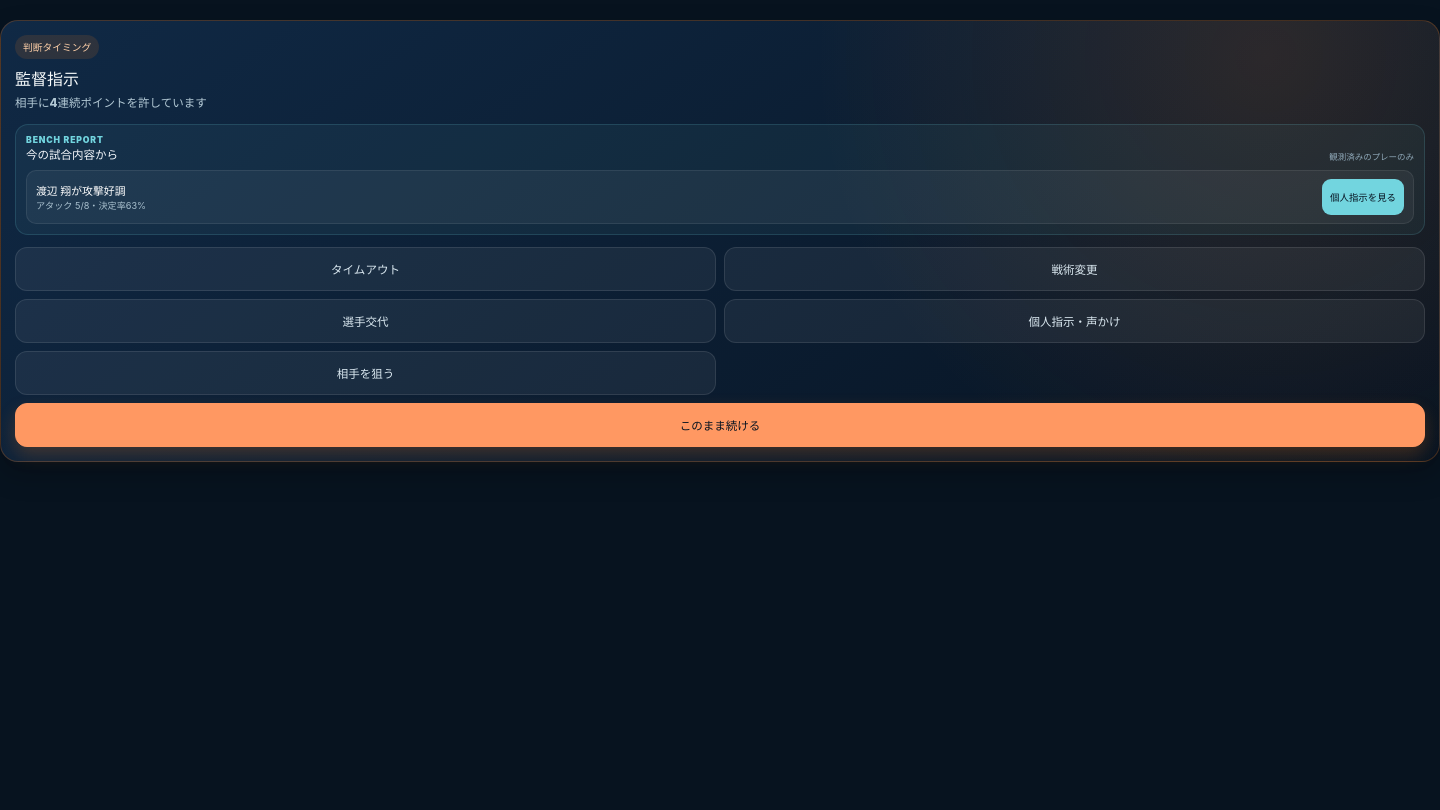
Test case: Phase53 bench report › shows observed-play advice and opens the matching player instruction
This screenshot has width=1440, height=810.
Check: the text "BENCH REPORT" is shown, box [26, 135, 104, 145]
Check: the text "アタック 5/8・決定率63%" is shown, box [36, 200, 146, 211]
Step 1. Click the button "個人指示を見る" → (1363, 197), box [1322, 179, 1404, 215]
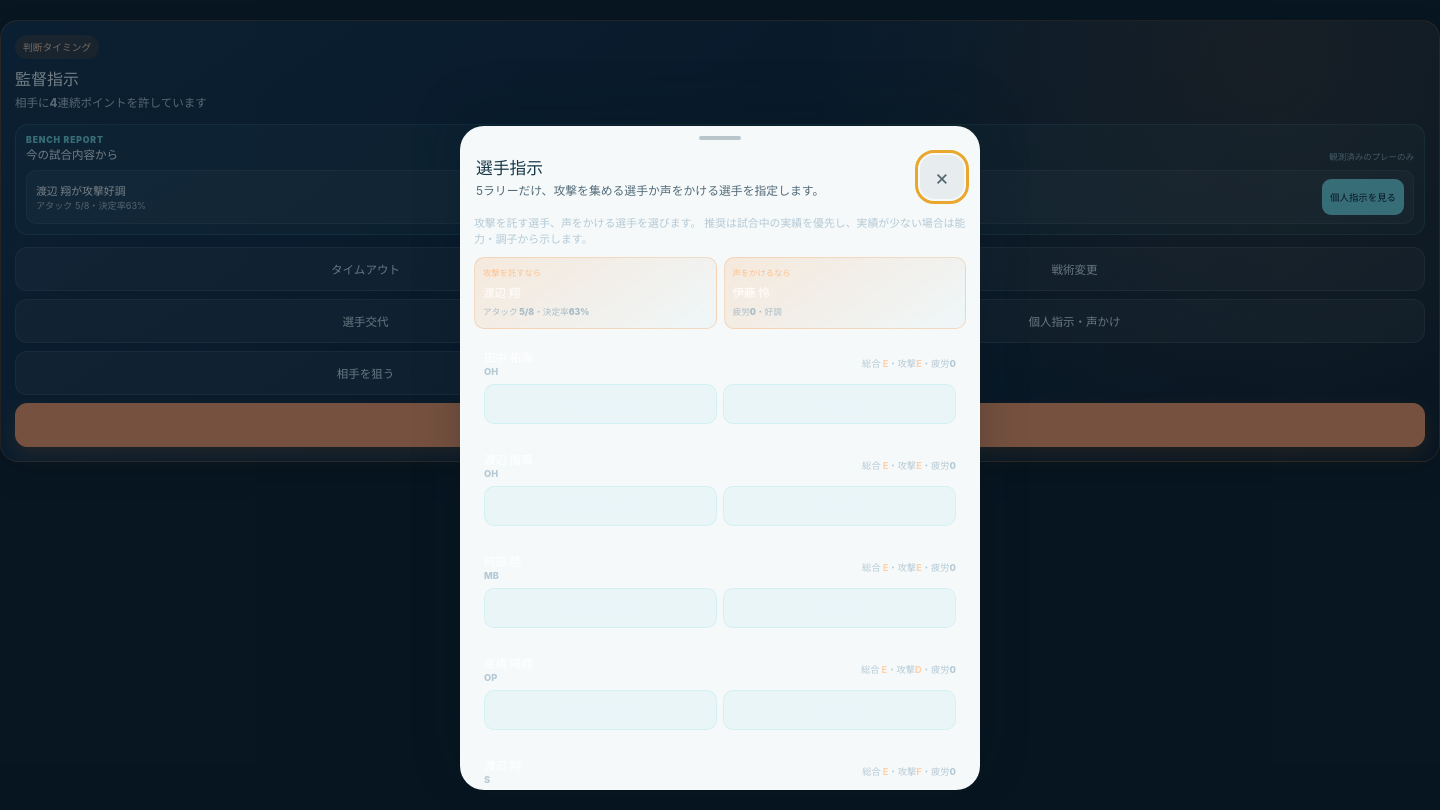
Check: the text "アタック 5/8・決定率63%" is shown, box [483, 307, 589, 317]
